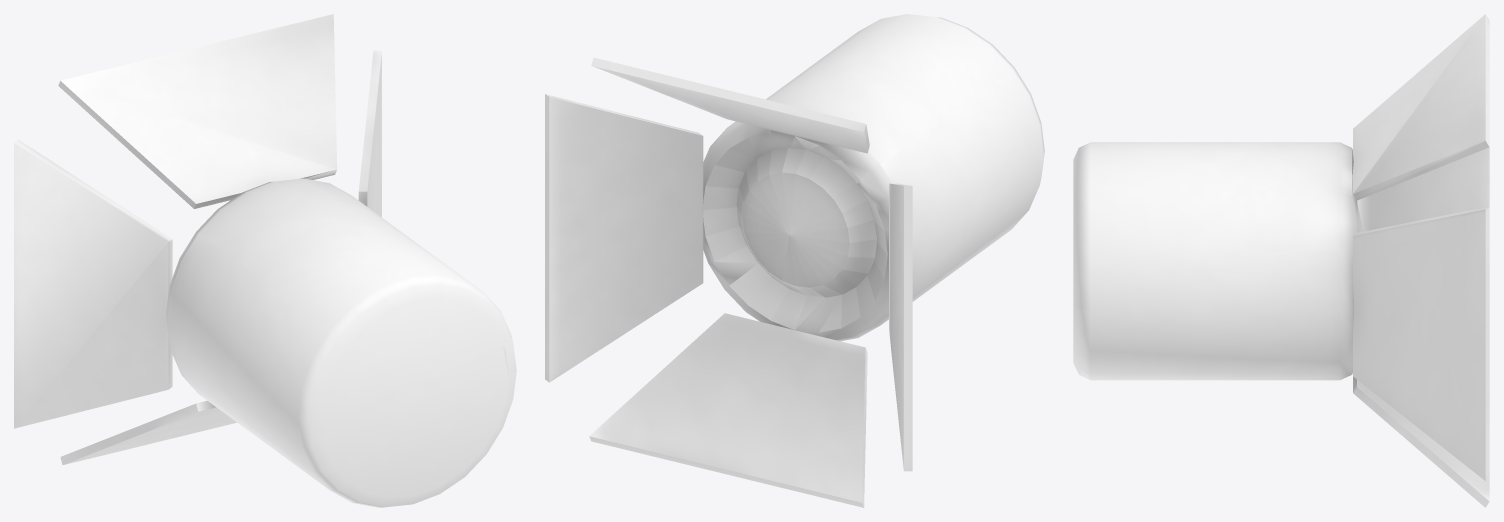
The model's file is Light_ico 12.glb.
The picture shows the model from 3 angles, left to right: view 1: azimuth 30°, elevation 25°; view 2: azimuth 150°, elevation 25°; view 3: azimuth 270°, elevation 25°; orthographic projection. The views are drawn at different scales.
Parts seen in each view (by area): view 1: Light_ico 12; view 2: Light_ico 12; view 3: Light_ico 12.
Part boxes in pixels (x1,y1,x2,y2): Light_ico 12: (14, 14, 516, 507); Light_ico 12: (545, 14, 1044, 507); Light_ico 12: (1073, 14, 1489, 507).
Size of the model in its own units: 0.2609 by 0.2609 by 0.2688.
Materials: 1 (1 with a texture image).
